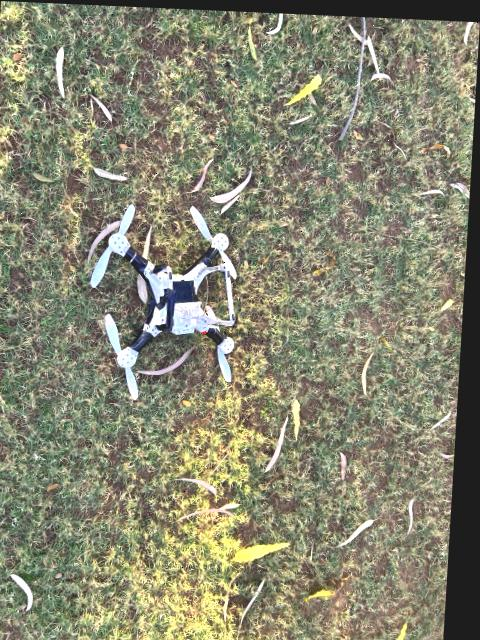drone: (73, 194, 258, 397)
